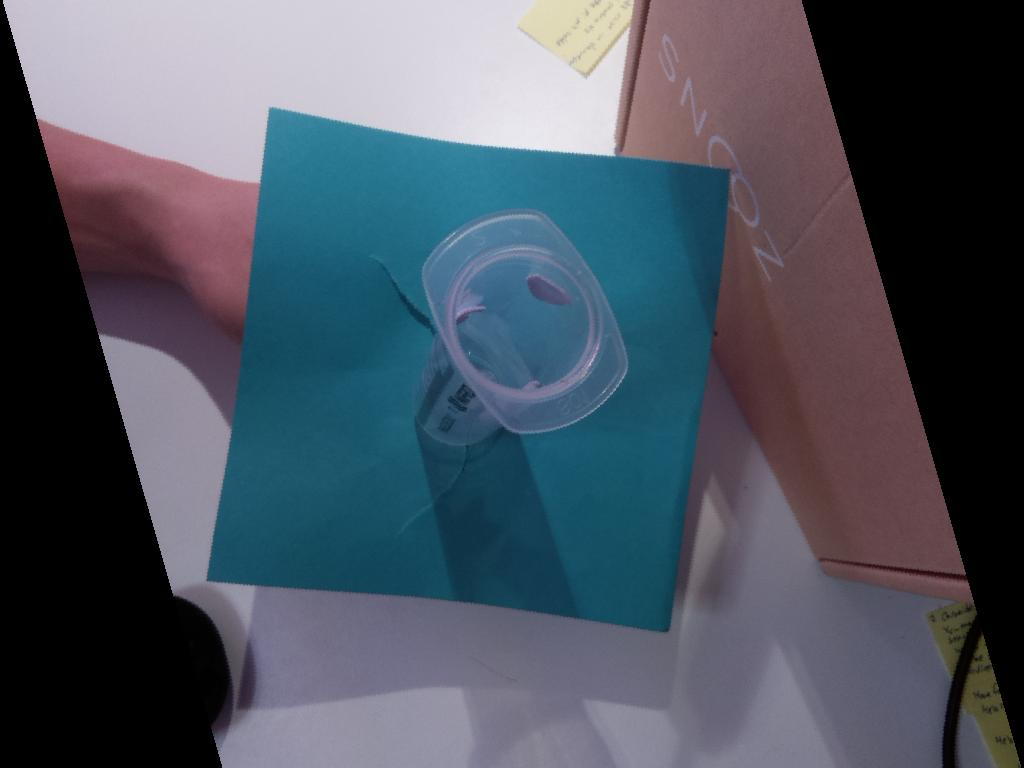dirty: (419, 206, 630, 432)
